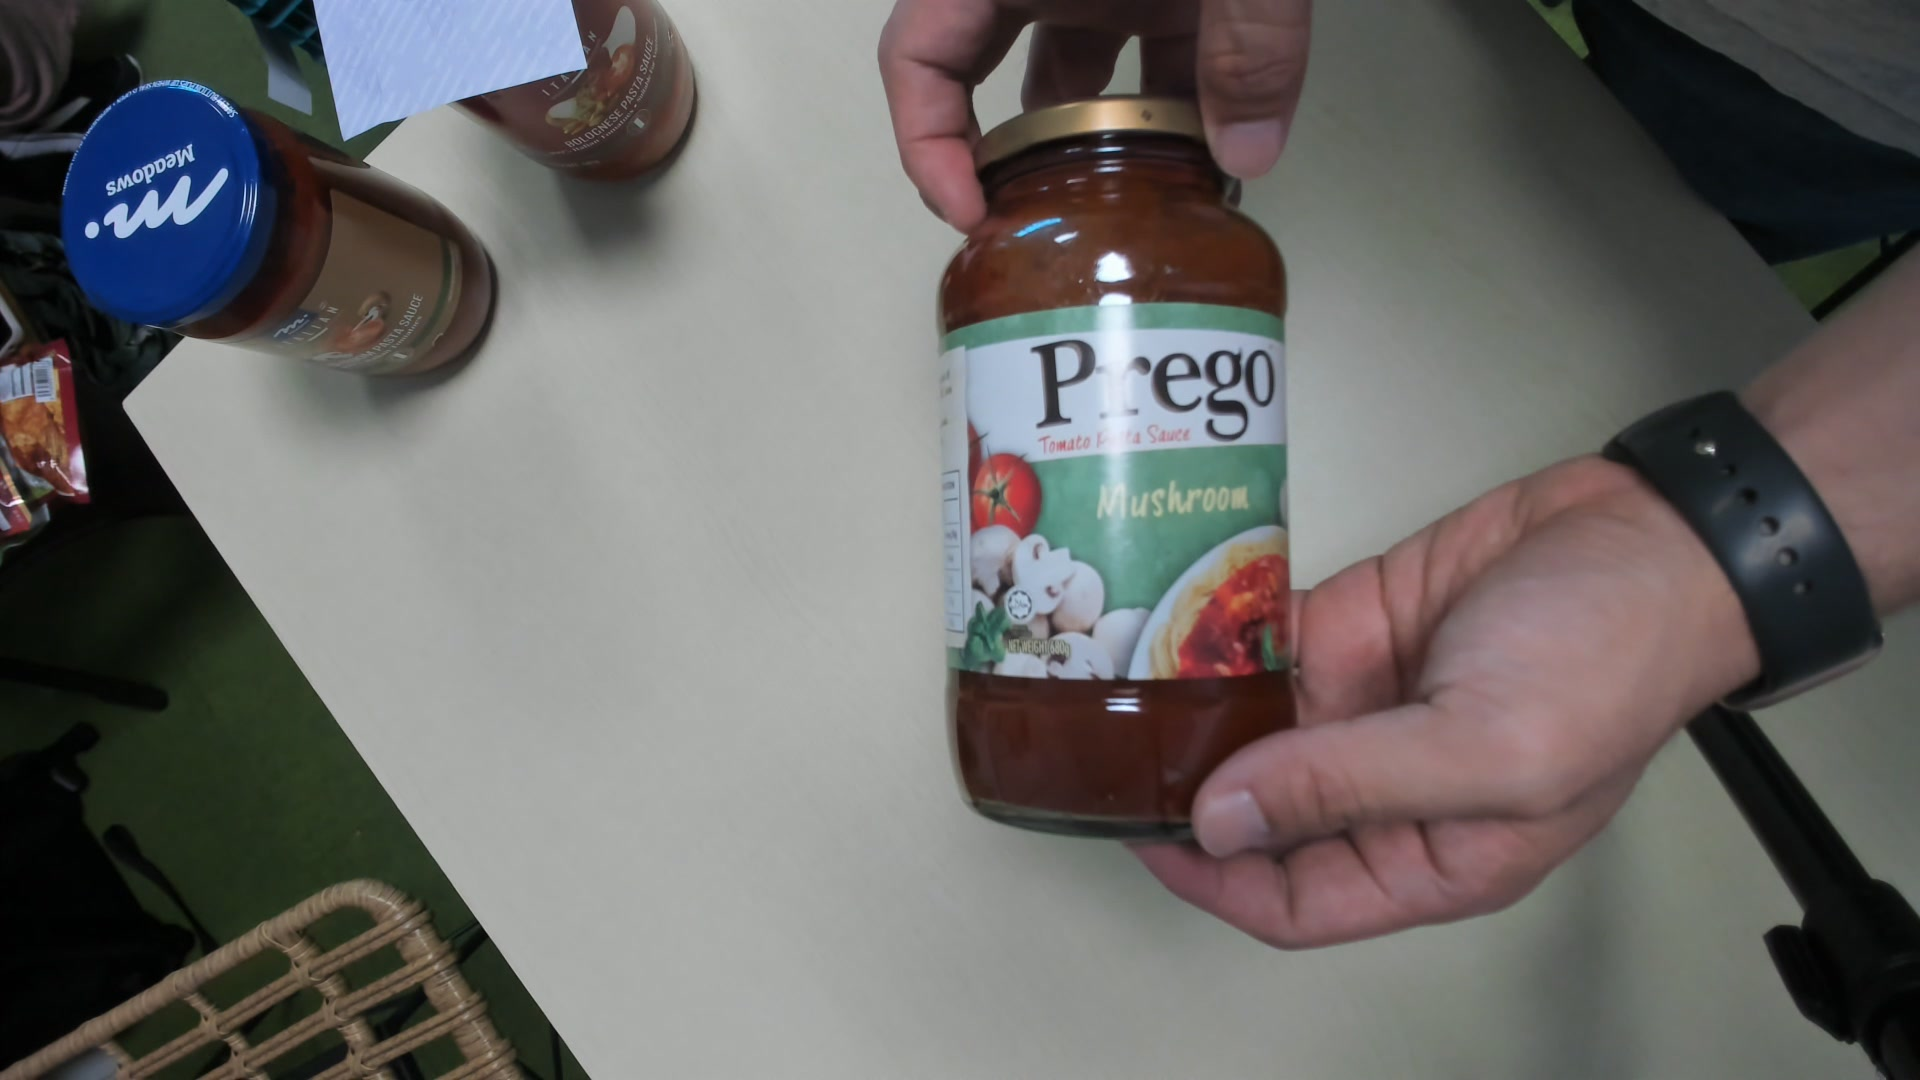PastaSauce_600-699g_Halal_NonHealthy: (930, 102, 1298, 828)
